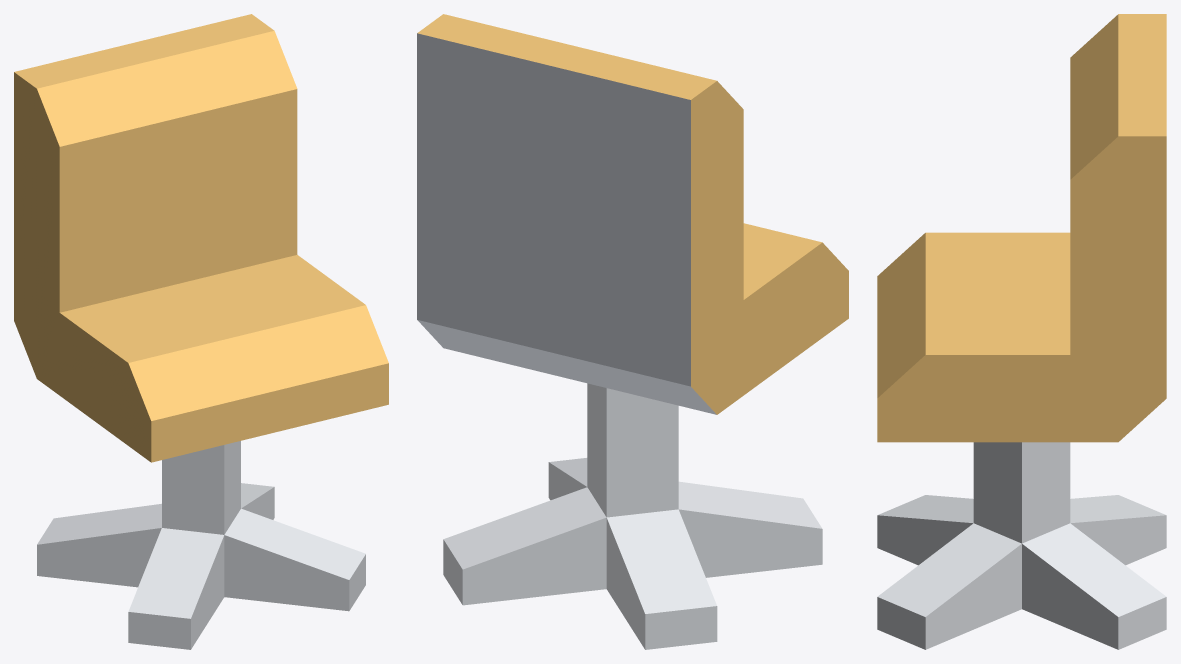
Rendered from desk_chair.glb.
3 views of the same model, side by side, from view 1: azimuth 30°, elevation 25°; view 2: azimuth 150°, elevation 25°; view 3: azimuth 270°, elevation 25° (orthographic). The views are drawn at different scales.
Parts seen in each view (by area): view 1: desk_chair; view 2: desk_chair; view 3: desk_chair.
Part boxes in pixels (x1,y1,x2,y2): desk_chair: [14, 14, 388, 649]; desk_chair: [417, 14, 848, 649]; desk_chair: [877, 14, 1166, 649].
Size of the model in its own units: 0.15 by 0.2937 by 0.15.
